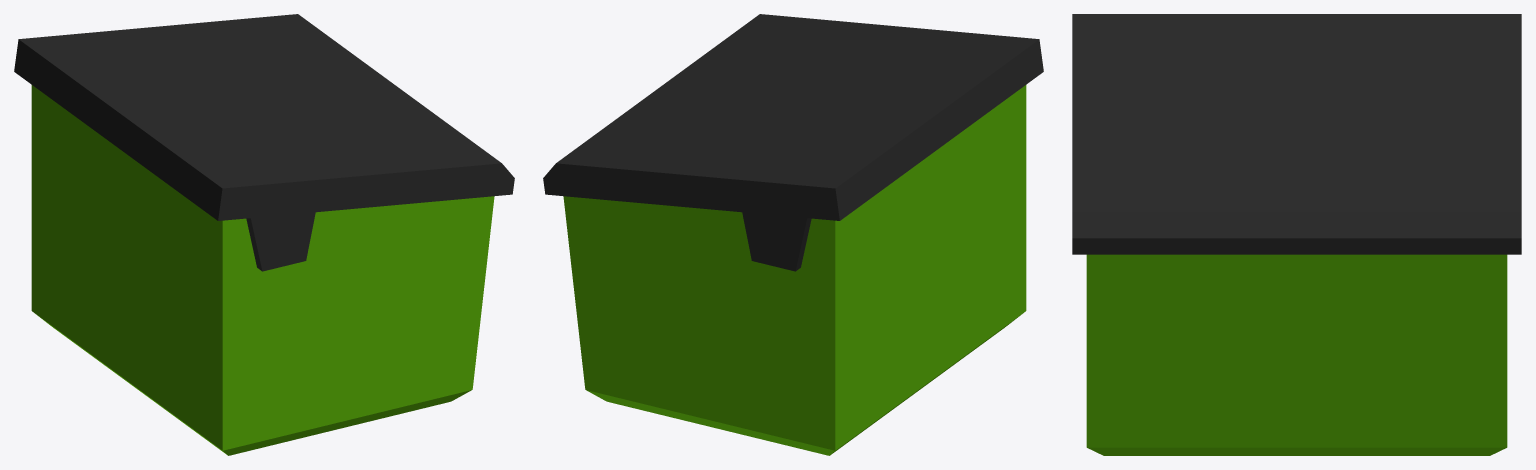
The model's file is trash_box.fbx.
3 views of the same model, side by side, from view 1: azimuth 30°, elevation 25°; view 2: azimuth 150°, elevation 25°; view 3: azimuth 270°, elevation 25° (orthographic). The views are drawn at different scales.
Visible parts, largest first — view 1: trash_box; view 2: trash_box; view 3: trash_box.
Boxes of the visible parts, <box> form: trash_box: <box>14,14,514,455</box>; trash_box: <box>543,14,1043,455</box>; trash_box: <box>1072,14,1521,455</box>.
Bounding box in the file's own units: 241 × 219 × 286.
